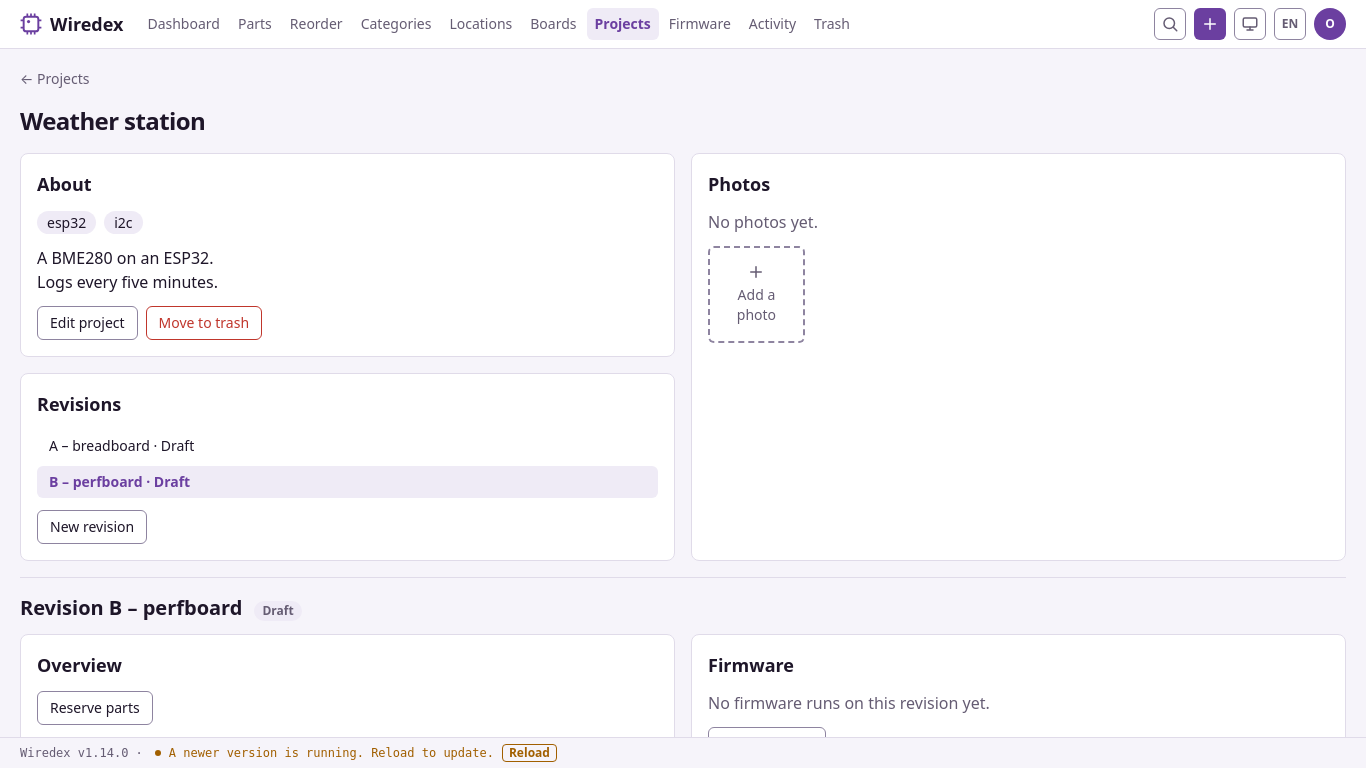
Test: ProjectPage › deletes the project after asking, and lands on the list
Click the button "Move to trash". click: {"x": 204, "y": 323}
box: [146,306,262,340]
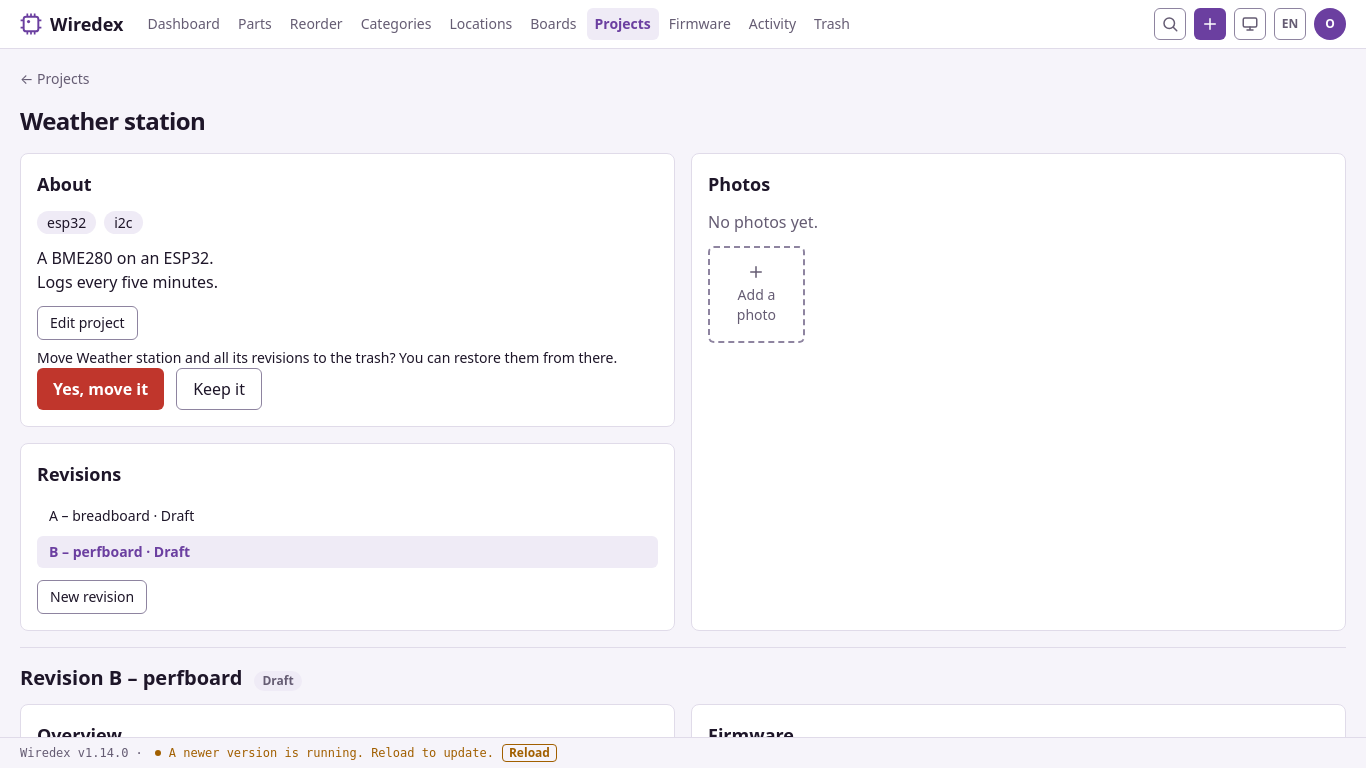
Click the button "Yes, move it". click: {"x": 101, "y": 389}
box: [37,368,164,410]
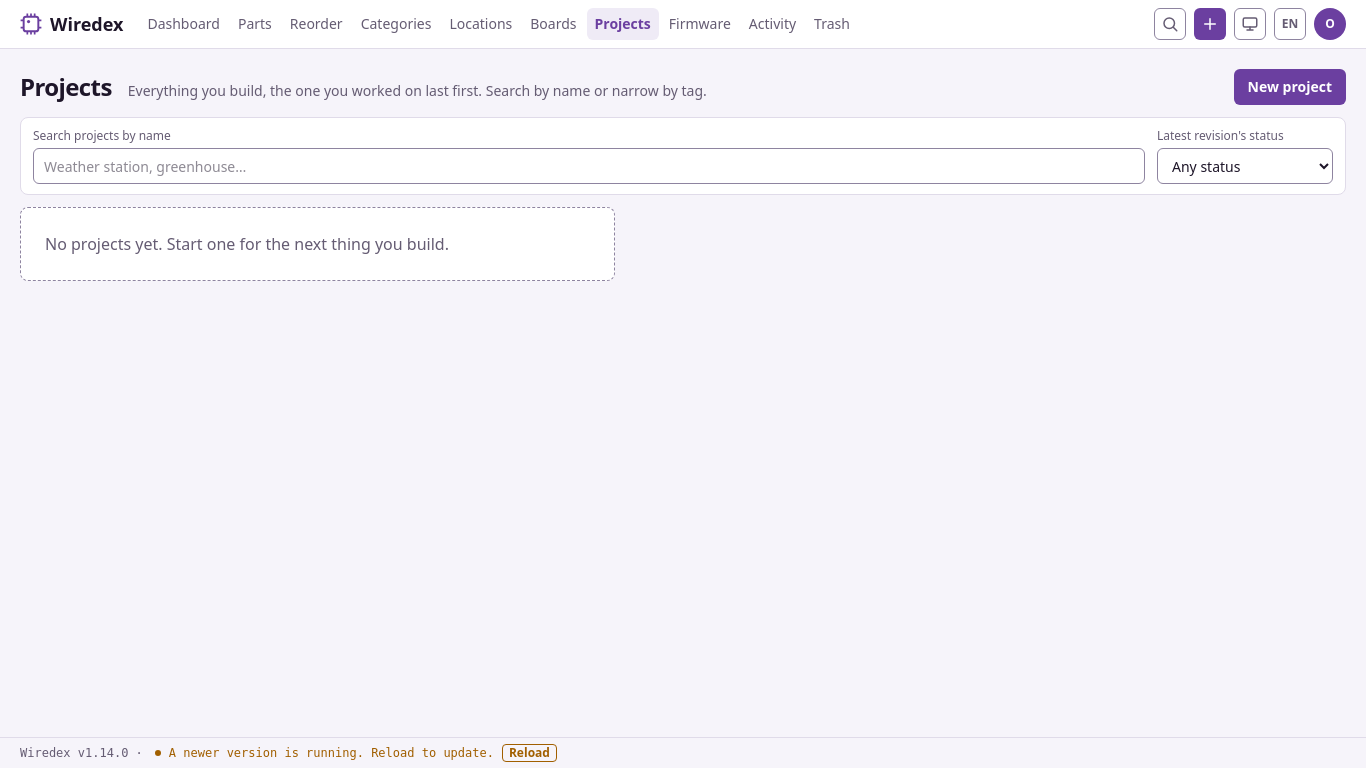
Result: the heading "Projects" is shown at [20,71,112,103]
